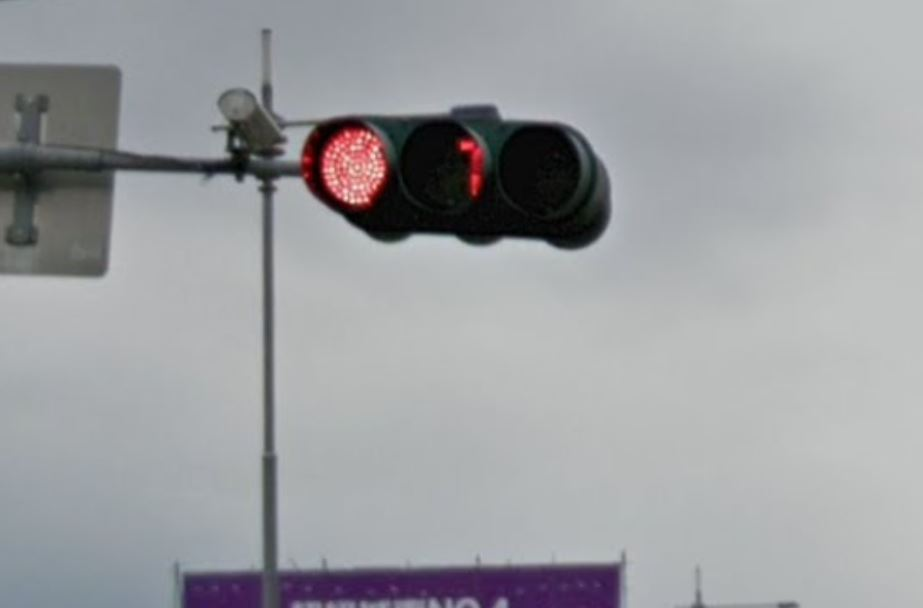Traffic_light_red: (295, 113, 614, 246)
